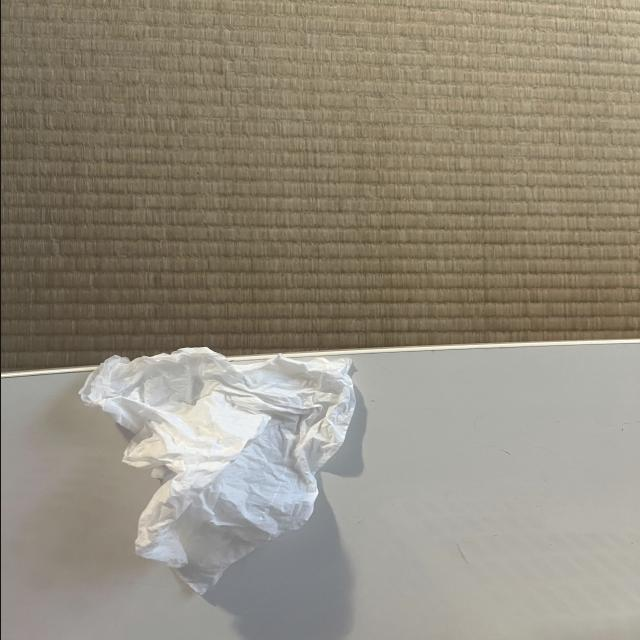Paper: (64, 340, 378, 588)
